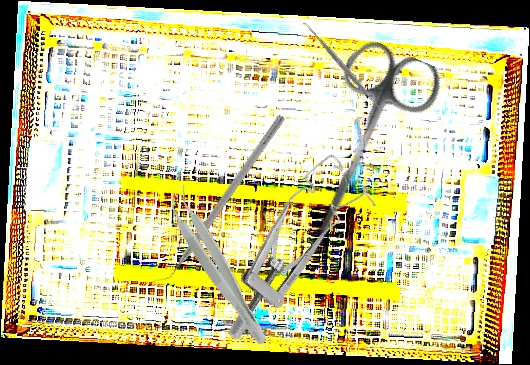Chopper: (148, 106, 287, 293)
Iris Scissors: (275, 33, 448, 267)
Spatula Surgical: (299, 17, 390, 118)
Speculum: (182, 149, 390, 344)
Tissue Forceps: (159, 183, 279, 350)
